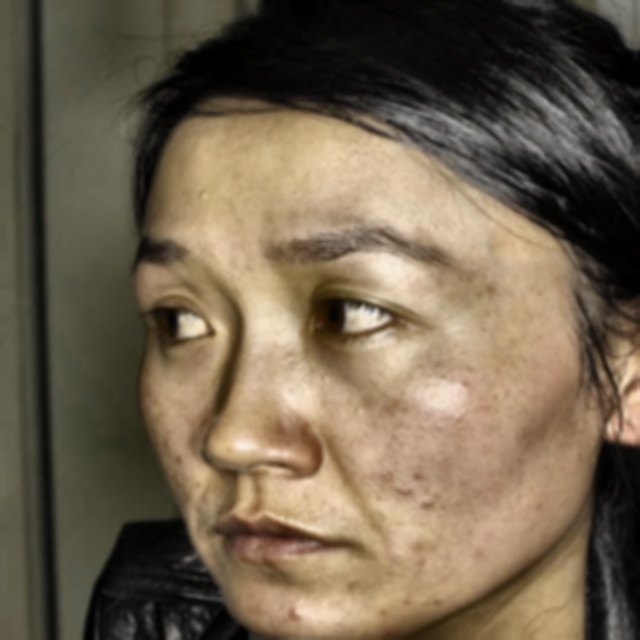comedone: (417, 493, 454, 516), (283, 597, 309, 625)
